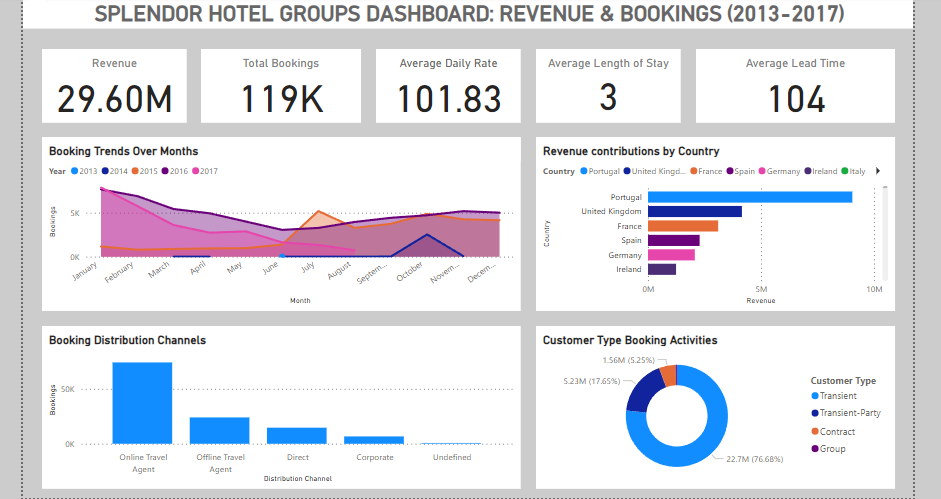

The dashboard page shown, as its layout file describes it:
{"tool":"powerbi","page":{"name":"Page 1","canvas":[1280,720],"ordinal":0},"visuals":[{"type":"card","title":"Total Bookings","fields":{"Values":["CountNonNull(SHG Data Analysis.Booking Date)"]},"box":[255.8,74.7,229.9,106.3],"z":0},{"type":"textbox","title":"SPLENDOR HOTEL GROUPS DASHBOARD: REVENUE & BOOKINGS (2013-2017)","box":[0,0,1280.5,44.6],"z":1000},{"type":"card","title":"Revenue","fields":{"Values":["Sum(SHG Data Analysis.Revenue)"]},"box":[27.3,74.7,208.4,106.3],"z":2000},{"type":"columnChart","title":"Booking Distribution Channels","fields":{"Category":["SHG Data Analysis.Distribution Channel"],"Y":["CountNonNull(SHG Data Analysis.Booking ID)"]},"box":[27.3,472.8,688.4,234.3],"z":3000},{"type":"barChart","title":"Revenue contributions by Country","fields":{"Category":["SHG Data Analysis.Country"],"Y":["Sum(SHG Data Analysis.Revenue)"],"Series":["SHG Data Analysis.Country"]},"box":[737.2,201.2,515.9,250.1],"z":4000},{"type":"donutChart","title":"Customer Type Booking Activities","fields":{"Category":["SHG Data Analysis.Customer Type"],"Y":["Sum(SHG Data Analysis.Revenue)"]},"box":[737.2,472.8,515.9,234.3],"z":5000},{"type":"card","title":"Average Daily Rate","fields":{"Values":["Avg(SHG Data Analysis.Avg Daily Rate)"]},"box":[507.3,74.7,208.4,106.3],"z":6000},{"type":"card","title":"Average Lead Time","fields":{"Values":["Avg(SHG Data Analysis.Lead Time)"]},"box":[967.2,74.7,286,106.3],"z":7000},{"type":"card","title":"Average Length of Stay","fields":{"Values":["Avg(SHG Data Analysis.Nights)"]},"box":[737,74.7,208.4,106.3],"z":8000},{"type":"actionButton","box":[0,0,100,40],"z":9000},{"type":"areaChart","title":"Booking Trends Over  Months","fields":{"Category":["SHG Data Analysis.Booking Date.Variation.Date Hierarchy.Month"],"Y":["CountNonNull(SHG Data Analysis.Booking ID)"],"Series":["SHG Data Analysis.Booking Date.Variation.Date Hierarchy.Year"]},"box":[27.3,201.2,688.4,250.1],"z":10000},{"type":"actionButton","box":[0,0,100,40],"z":11000}]}

Visuals, with their boxes on the page's 1280x720 design canvas (x1, y1, x2, y2). These are canvas units, not pixel positions in the 941x499 screenshot, which may show the page scaled, cropped or inside an application window:
"Total Bookings" card: [256,75,486,181]
"SPLENDOR HOTEL GROUPS DASHBOARD: REVENUE & BOOKINGS (2013-2017)" textbox: [0,0,1280,45]
"Revenue" card: [27,75,236,181]
"Booking Distribution Channels" columnChart: [27,473,716,707]
"Revenue contributions by Country" barChart: [737,201,1253,451]
"Customer Type Booking Activities" donutChart: [737,473,1253,707]
"Average Daily Rate" card: [507,75,716,181]
"Average Lead Time" card: [967,75,1253,181]
"Average Length of Stay" card: [737,75,945,181]
actionButton: [0,0,100,40]
"Booking Trends Over  Months" areaChart: [27,201,716,451]
actionButton: [0,0,100,40]
